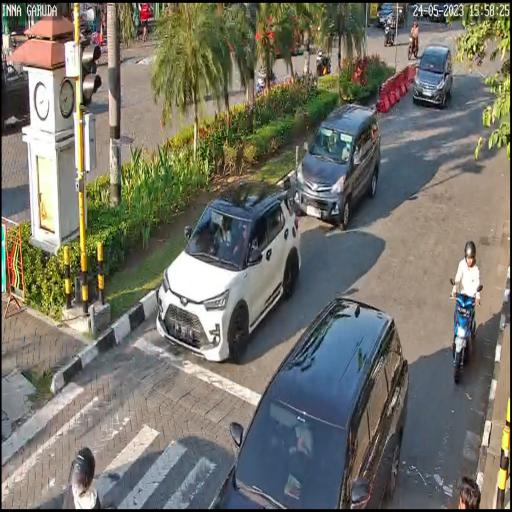mobil: (210, 296, 409, 507), (157, 178, 301, 360), (297, 103, 380, 231), (414, 45, 454, 111)
motor: (447, 284, 484, 386)
